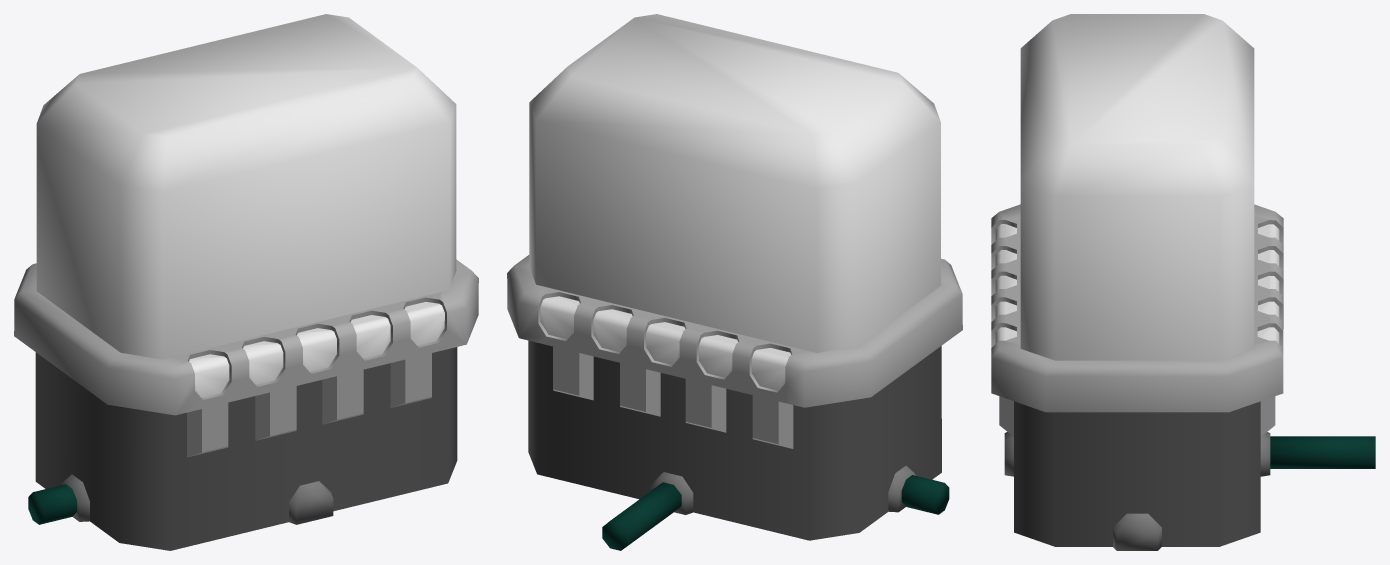
The model's file is HydroponicsTray.fbx.
The picture shows the model from 3 angles, left to right: view 1: azimuth 30°, elevation 25°; view 2: azimuth 150°, elevation 25°; view 3: azimuth 270°, elevation 25°; orthographic projection. The views are drawn at different scales.
Parts seen in each view (by area): view 1: HydroponicsTrayHood, HydroponicsTray, HydroponicsTrayHoseEW, HydroponicsTrayLightBlue, HydroponicsTrayLightGreen, HydroponicsTrayLightYellow, HydroponicsTrayLightRed, HydroponicsTrayLightOrange; view 2: HydroponicsTrayHood, HydroponicsTray, HydroponicsTrayHoseNS, HydroponicsTrayHoseEW, HydroponicsTrayLightGreen, HydroponicsTrayLightBlue, HydroponicsTrayLightRed, HydroponicsTrayLightOrange, HydroponicsTrayLightYellow; view 3: HydroponicsTrayHood, HydroponicsTray, HydroponicsTrayHoseNS, HydroponicsTrayLightBlue, HydroponicsTrayLightGreen, HydroponicsTrayLightRed, HydroponicsTrayLightYellow, HydroponicsTrayLightOrange.
Part boxes in pixels (x1=…): HydroponicsTrayHood: x1=36, y1=14, x2=456, y2=359; HydroponicsTray: x1=14, y1=259, x2=478, y2=550; HydroponicsTrayHoseEW: x1=28, y1=484, x2=76, y2=524; HydroponicsTrayLightBlue: x1=404, y1=302, x2=444, y2=345; HydroponicsTrayLightGreen: x1=189, y1=354, x2=229, y2=397; HydroponicsTrayLightYellow: x1=350, y1=315, x2=390, y2=358; HydroponicsTrayLightRed: x1=243, y1=341, x2=283, y2=384; HydroponicsTrayLightOrange: x1=297, y1=328, x2=336, y2=371; HydroponicsTrayHood: x1=529, y1=14, x2=940, y2=352; HydroponicsTray: x1=507, y1=255, x2=962, y2=540; HydroponicsTrayHoseNS: x1=602, y1=482, x2=681, y2=550; HydroponicsTrayHoseEW: x1=901, y1=475, x2=949, y2=514; HydroponicsTrayLightGreen: x1=751, y1=348, x2=790, y2=390; HydroponicsTrayLightBlue: x1=540, y1=296, x2=579, y2=339; HydroponicsTrayLightRed: x1=698, y1=335, x2=737, y2=377; HydroponicsTrayLightOrange: x1=646, y1=322, x2=685, y2=364; HydroponicsTrayLightYellow: x1=593, y1=309, x2=632, y2=352; HydroponicsTrayHood: x1=1020, y1=14, x2=1254, y2=360; HydroponicsTray: x1=991, y1=204, x2=1283, y2=550; HydroponicsTrayHoseNS: x1=1270, y1=436, x2=1375, y2=468; HydroponicsTrayLightBlue: x1=995, y1=327, x2=1279, y2=343; HydroponicsTrayLightGreen: x1=995, y1=224, x2=1279, y2=240; HydroponicsTrayLightRed: x1=995, y1=250, x2=1279, y2=266; HydroponicsTrayLightYellow: x1=995, y1=301, x2=1279, y2=317; HydroponicsTrayLightOrange: x1=995, y1=275, x2=1279, y2=291.
Bounding box in the file's own units: 0.9425 × 0.8993 × 0.8092.
